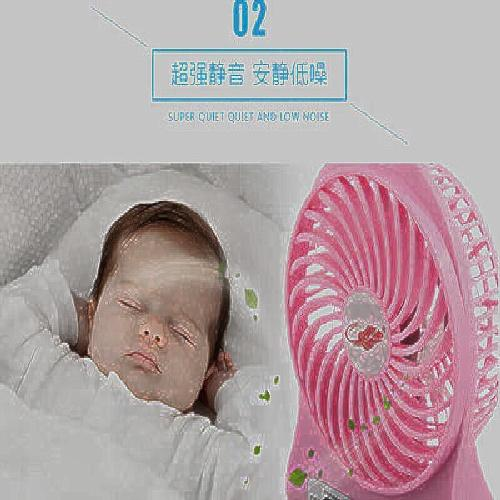fan: (289, 154, 495, 487)
